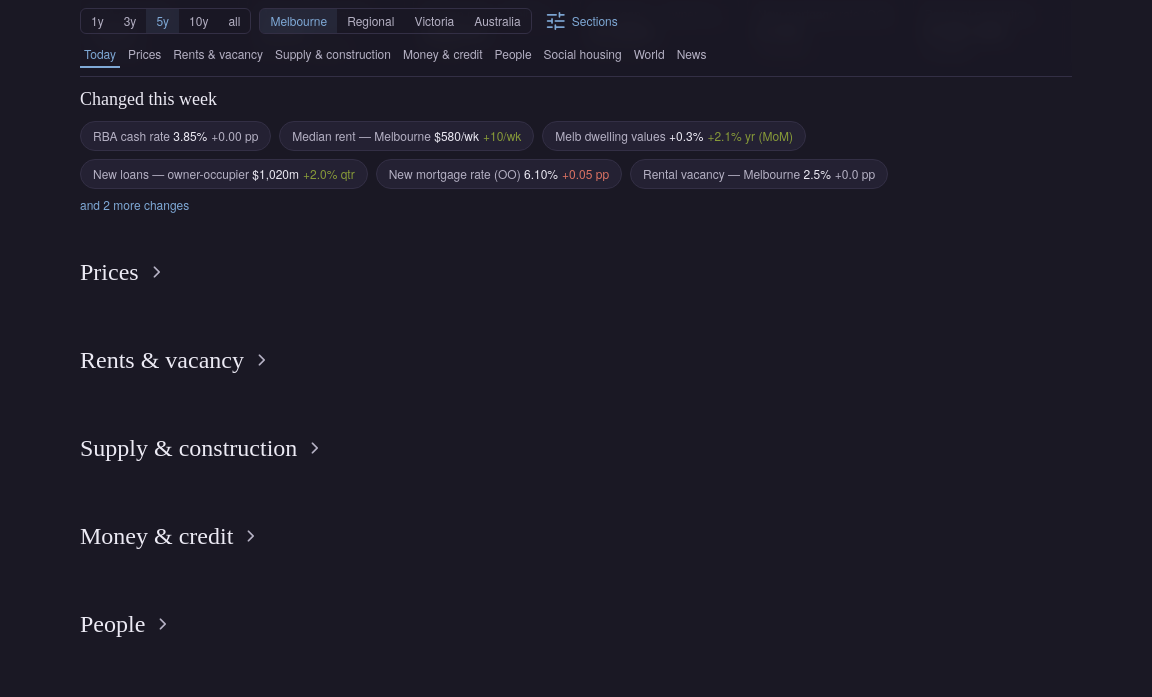
Test: modal geography chip › a geo-scoped chart opened under melbourne shows Melbourne in the modal
(page scrolled)
Click the 2nd button "Rents & vacancy" at [177, 360], box left=80, top=344, right=274, bottom=376
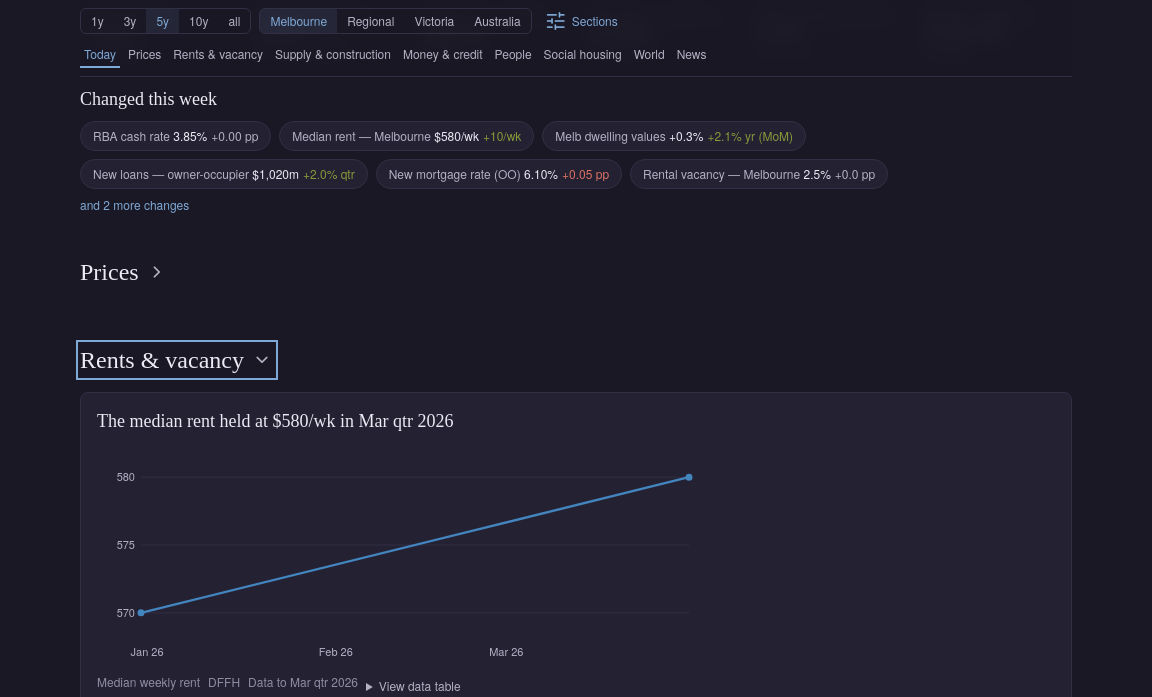
Click the button with aria-label "Median weekly rent — open details" at [998, 535], box left=97, top=409, right=1055, bottom=662
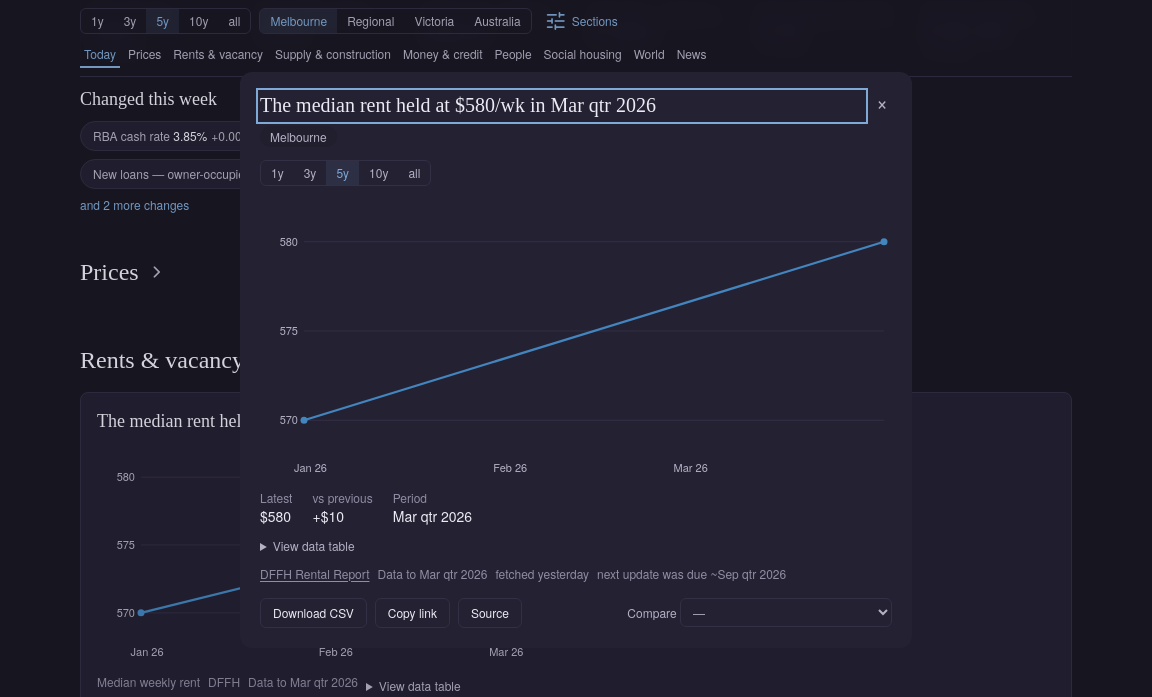
Check: the text "Melbourne" is shown, box left=260, top=126, right=337, bottom=147
